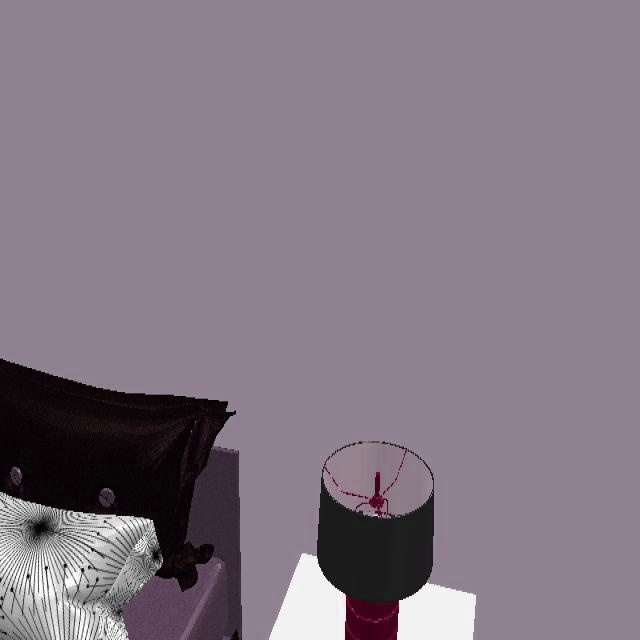bed: (0, 360, 242, 640)
lamp: (317, 441, 435, 640)
nighttable: (266, 553, 345, 640), (397, 583, 460, 640)
pillow: (0, 495, 167, 640)
